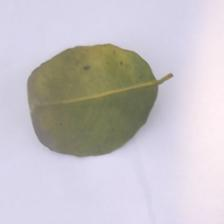black spot: (19, 37, 186, 165)
